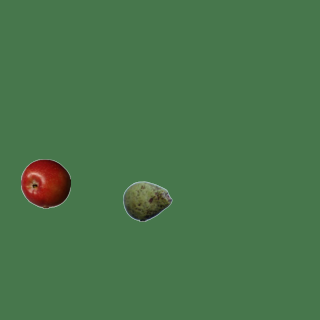Apple Braeburn: (20, 158, 70, 208)
Pear Stone: (122, 176, 172, 226)
